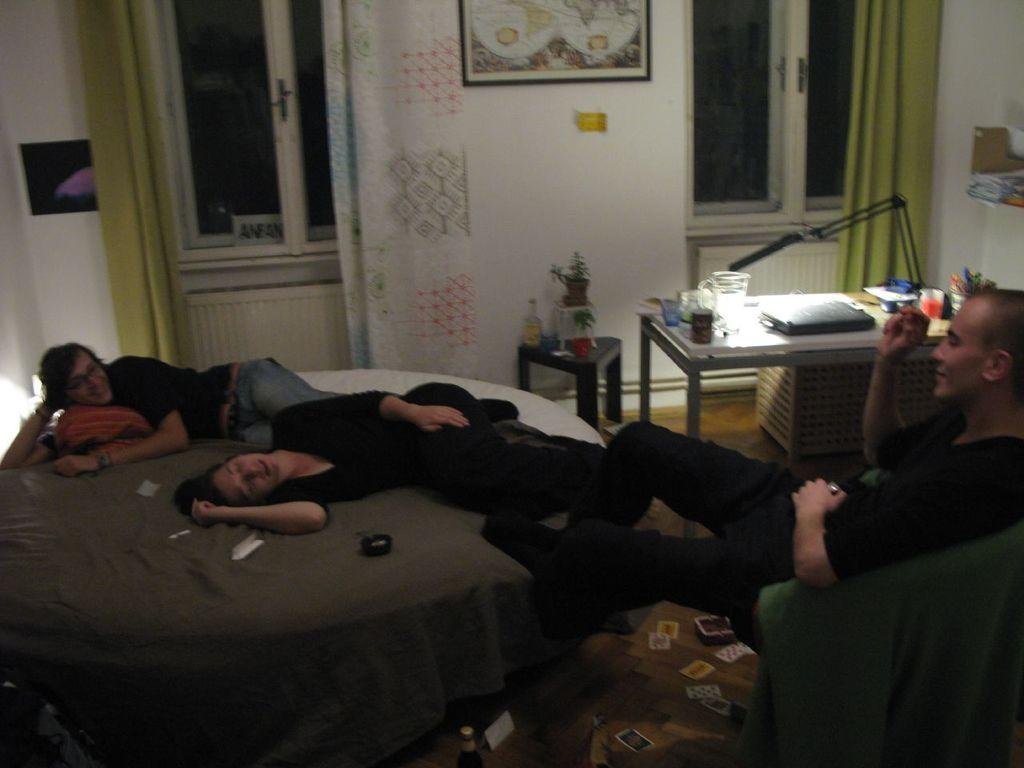Laptop: (759, 298, 875, 335)
